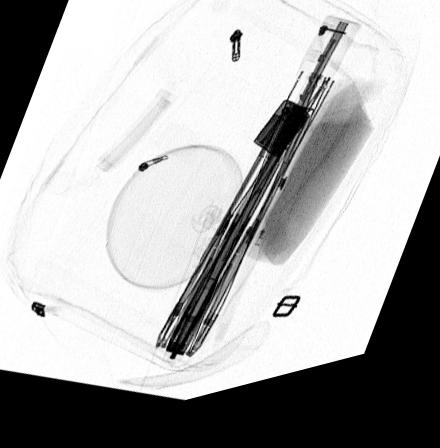Lighter: (251, 115, 309, 172)
